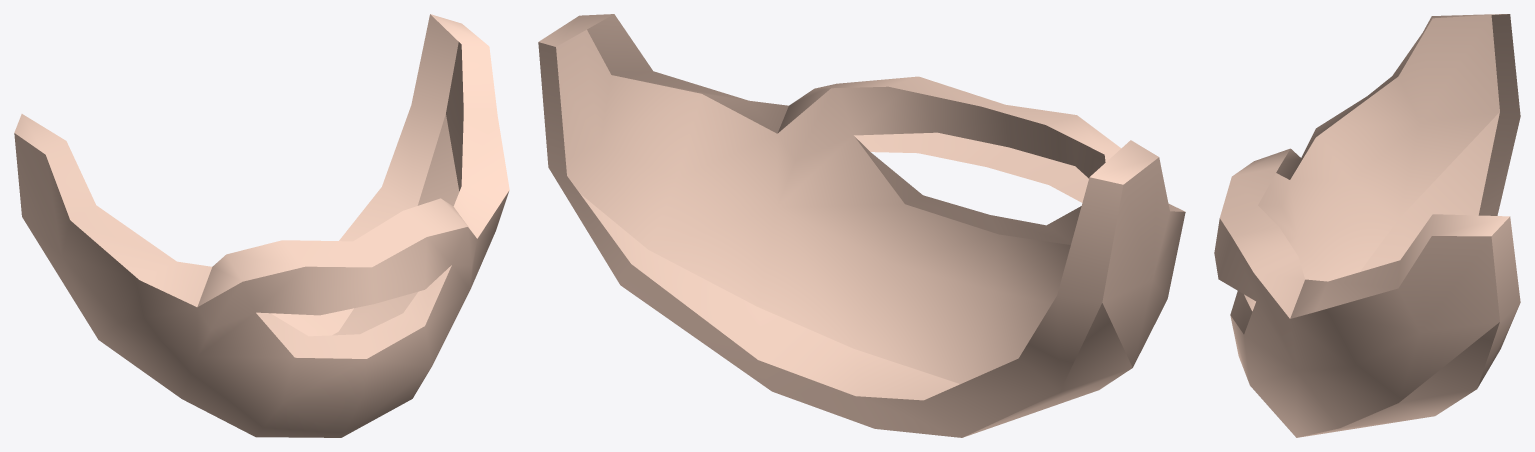
The model's file is Male_Beard_01_v2.fbx.
3 views of the same model, side by side, from view 1: azimuth 30°, elevation 25°; view 2: azimuth 150°, elevation 25°; view 3: azimuth 270°, elevation 25° (orthographic). The views are drawn at different scales.
Visible parts, largest first — view 1: Male_Beard_01_v2; view 2: Male_Beard_01_v2; view 3: Male_Beard_01_v2.
Boxes of the visible parts, <box> form: Male_Beard_01_v2: <box>14,14,509,437</box>; Male_Beard_01_v2: <box>538,14,1185,437</box>; Male_Beard_01_v2: <box>1214,14,1520,437</box>.
Bounding box in the file's own units: 49.08 × 30.64 × 28.62.
